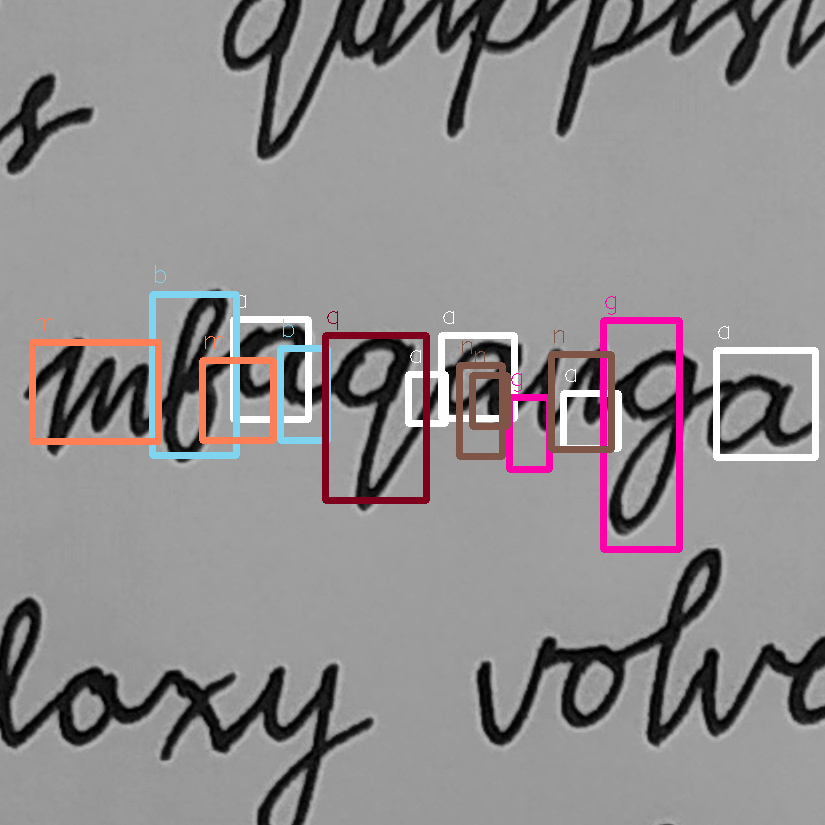a: (704, 366, 821, 457), (425, 332, 528, 425), (234, 318, 316, 414)
b: (156, 283, 232, 468)
g: (603, 345, 704, 538)
m: (39, 331, 153, 460)
n: (529, 339, 614, 436)
q: (325, 328, 418, 516)
